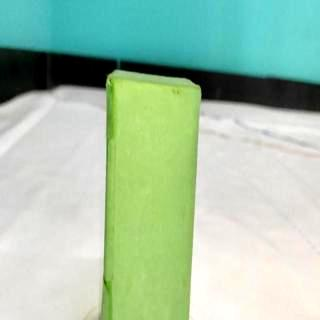greenbox: (101, 61, 200, 320)
